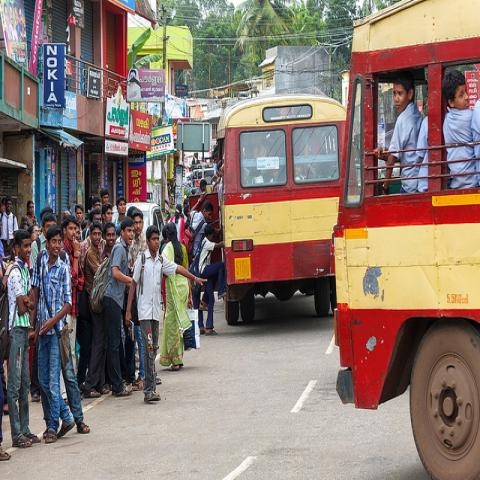bus: (335, 0, 479, 472), (213, 92, 348, 326)
